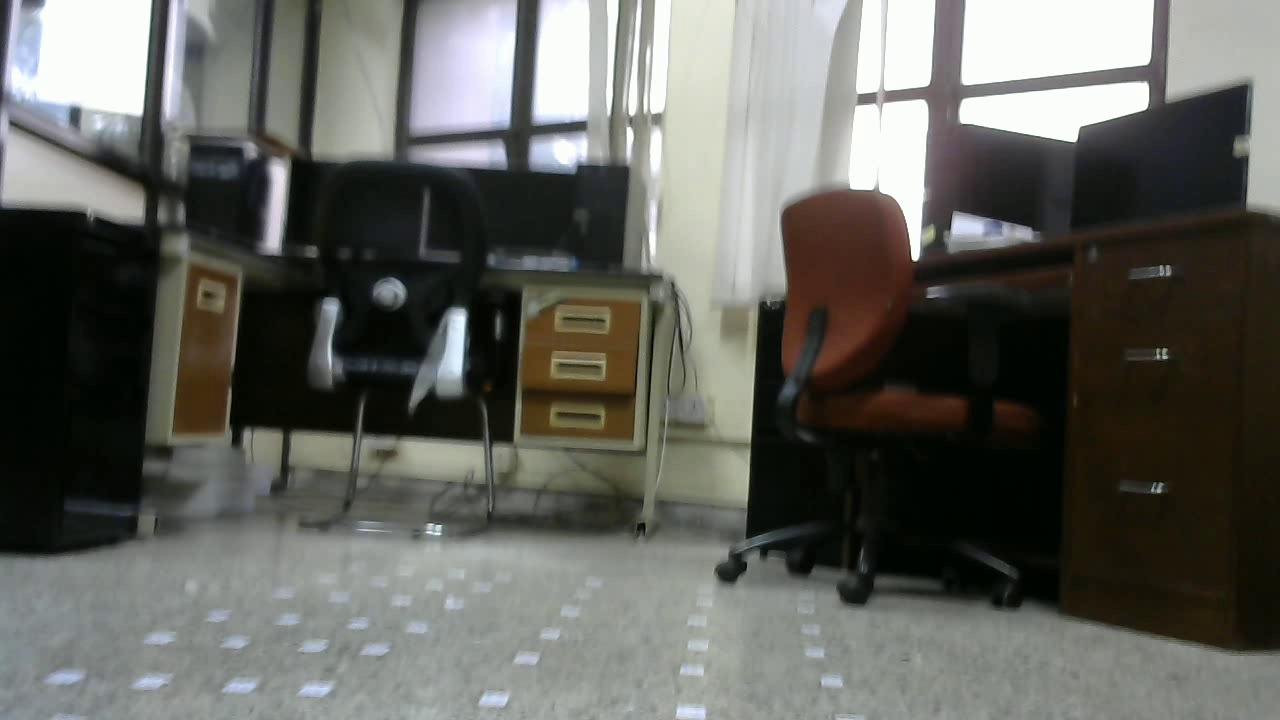chair: (717, 187, 1036, 611), (299, 163, 500, 537)
